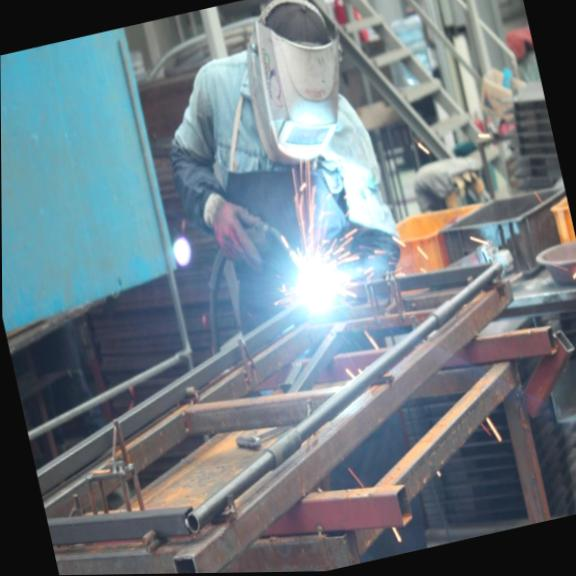no_safety_vest: (182, 18, 404, 312)
